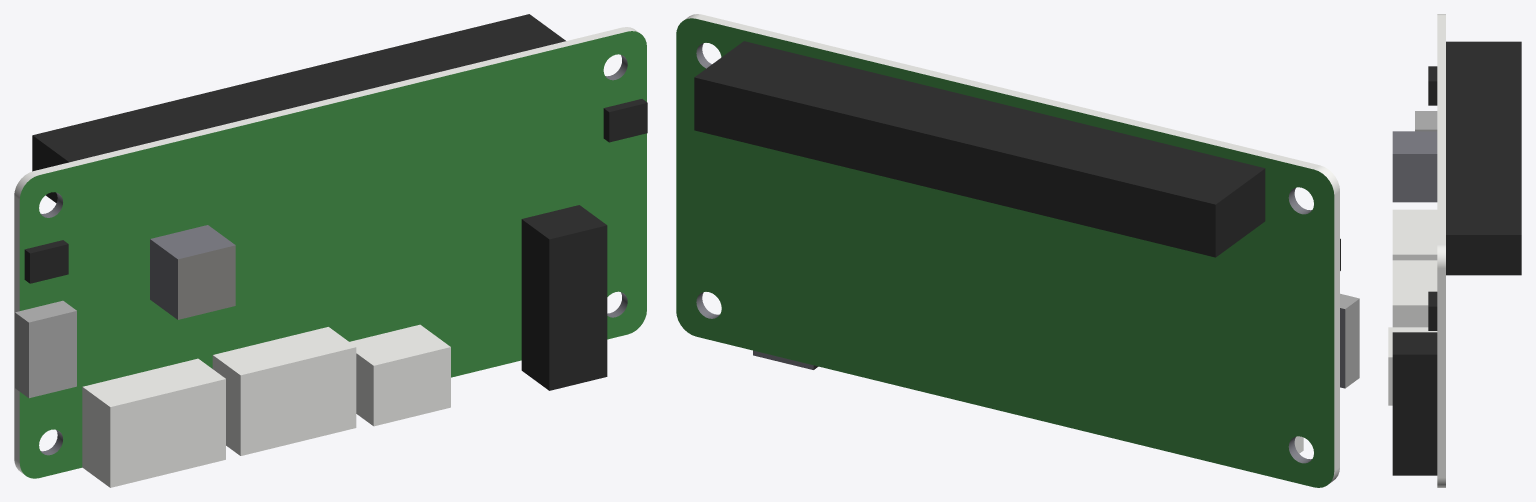
File: Respeaker2MicPiHat.obj
3 renders of one model, left to right at view 1: azimuth 30°, elevation 25°; view 2: azimuth 150°, elevation 25°; view 3: azimuth 270°, elevation 25°, orthographic. The views are drawn at different scales.
Parts seen in each view (by area): view 1: 본체1; view 2: 본체1; view 3: 본체1.
Boxes of the visible parts, x1,y1,x2,y2 form: 본체1: [14, 14, 647, 487]; 본체1: [676, 14, 1359, 487]; 본체1: [1388, 14, 1521, 487].
Bounding box in the file's own units: 65.5 × 31 × 15.
